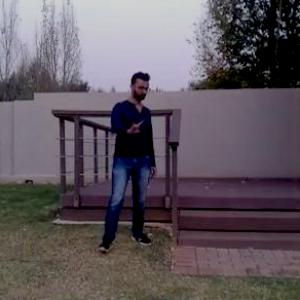takeoff-hand: (122, 112, 148, 140)
